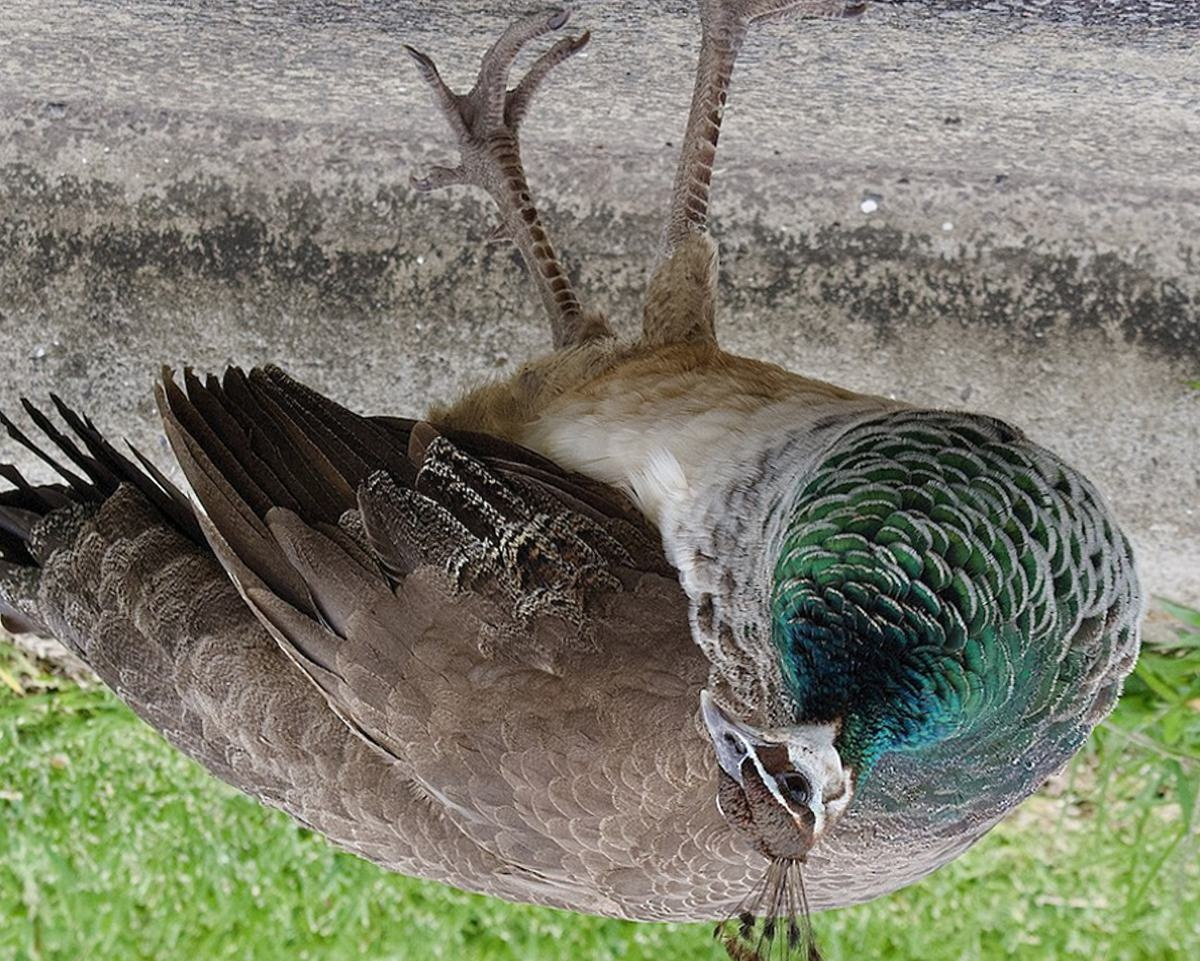peacock: (154, 199, 1139, 918)
